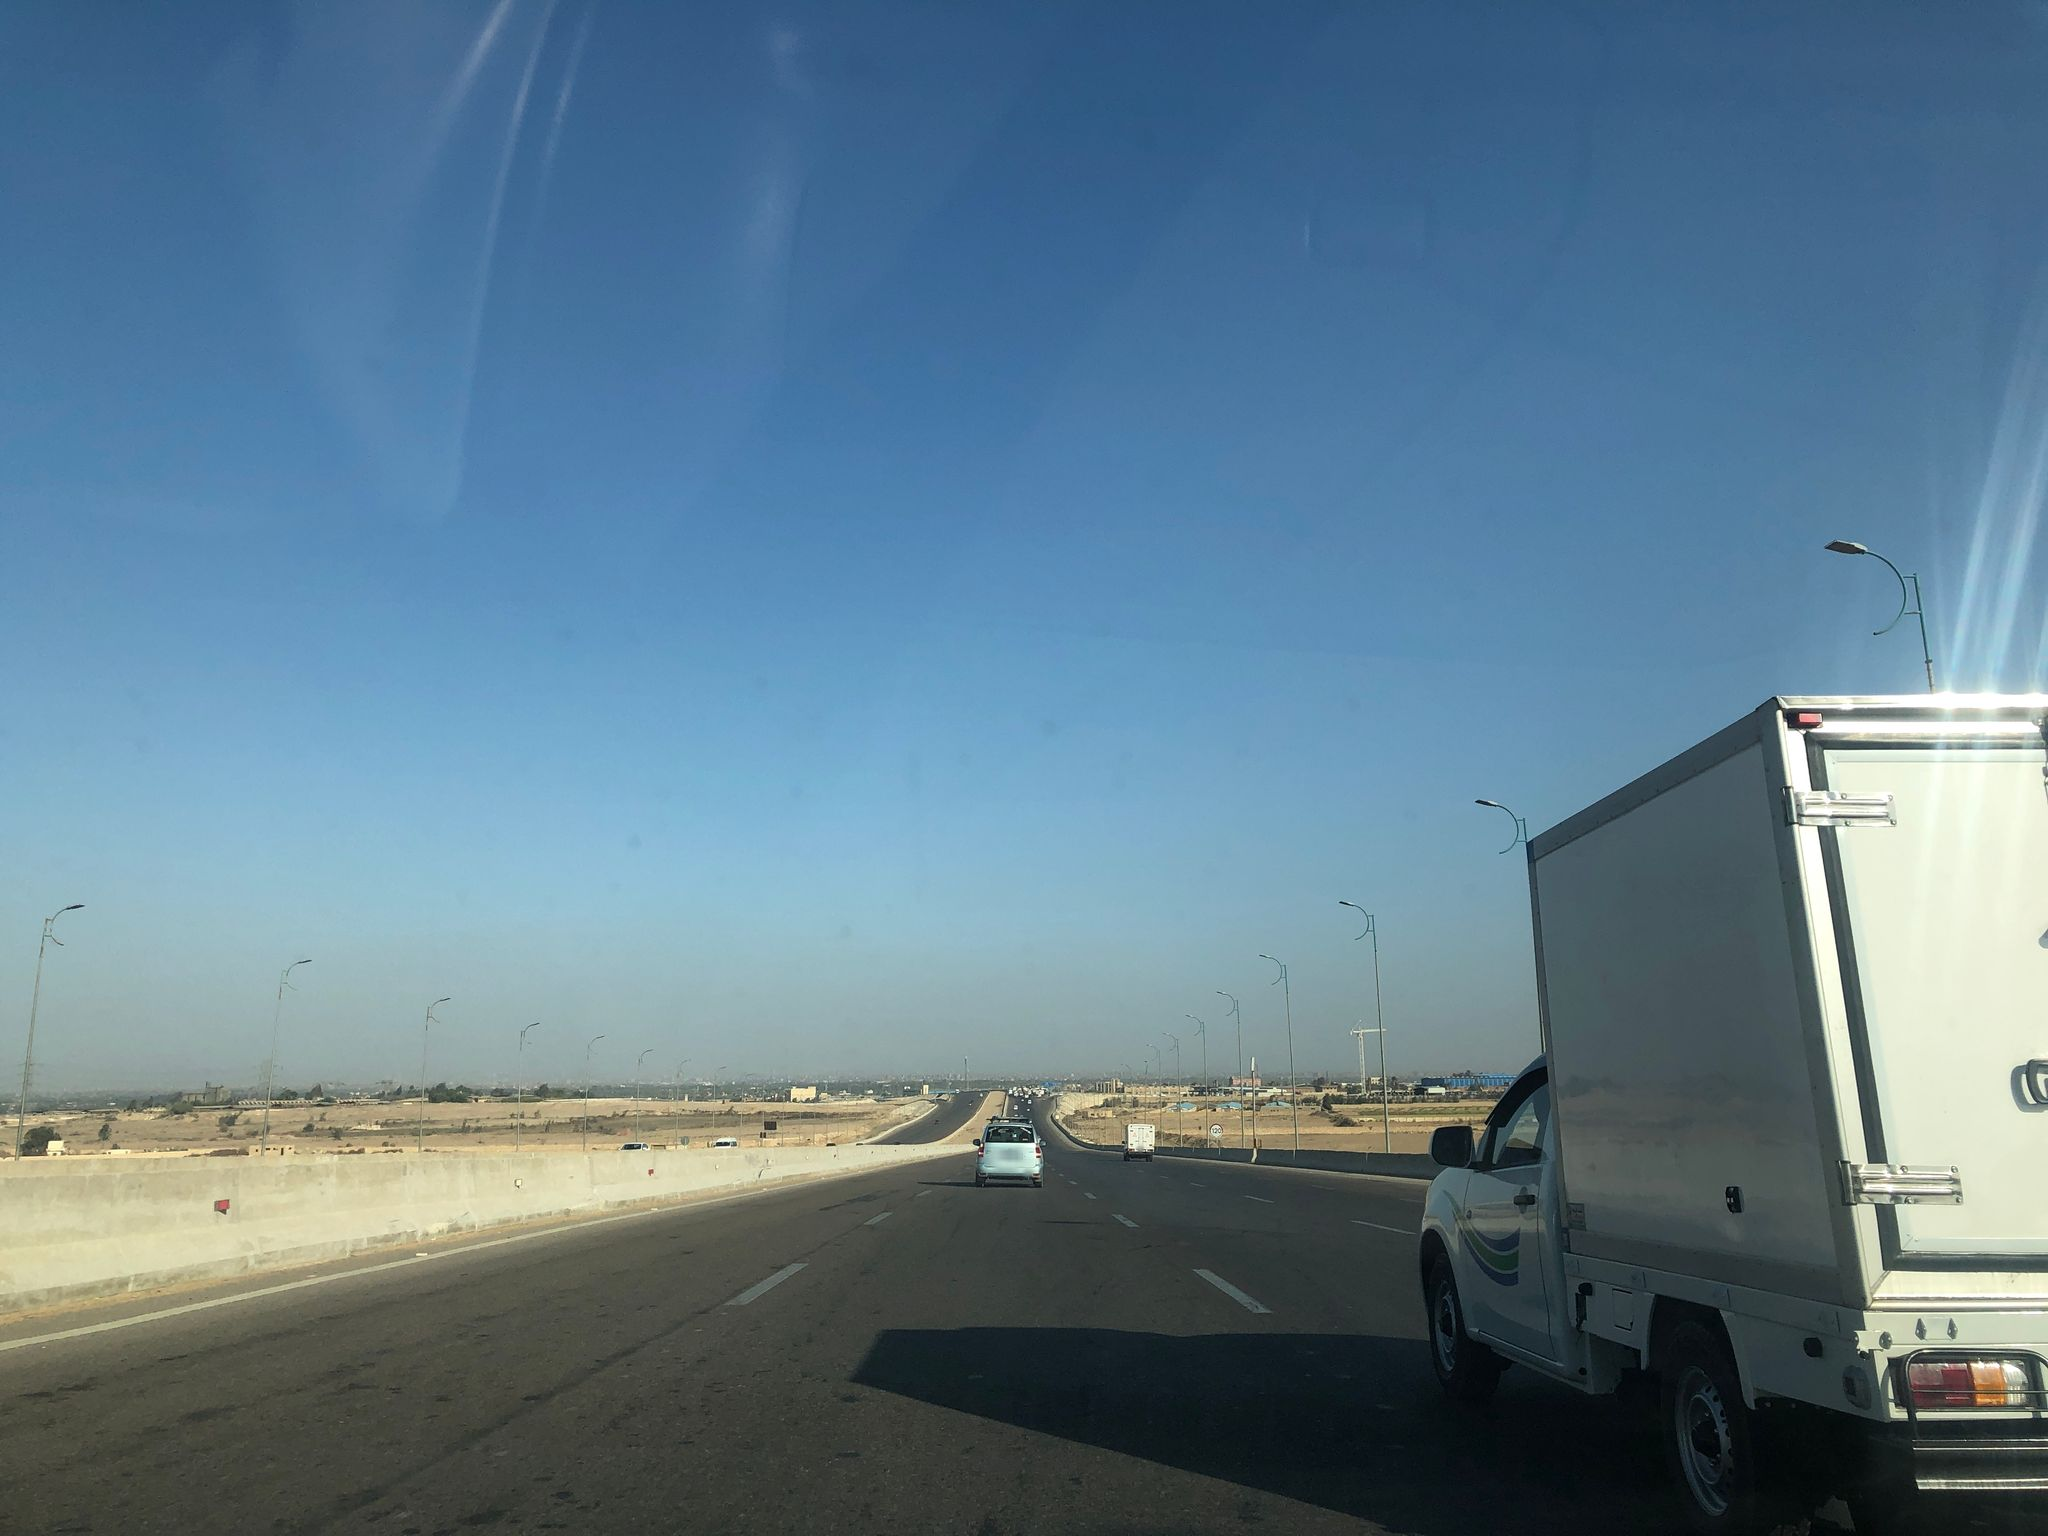car: (971, 1113, 1047, 1187)
truck: (1413, 686, 2046, 1536), (1121, 1123, 1156, 1162)
